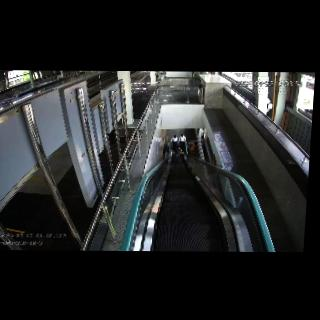normal: (173, 146, 183, 164), (178, 132, 187, 150), (170, 133, 180, 149)
